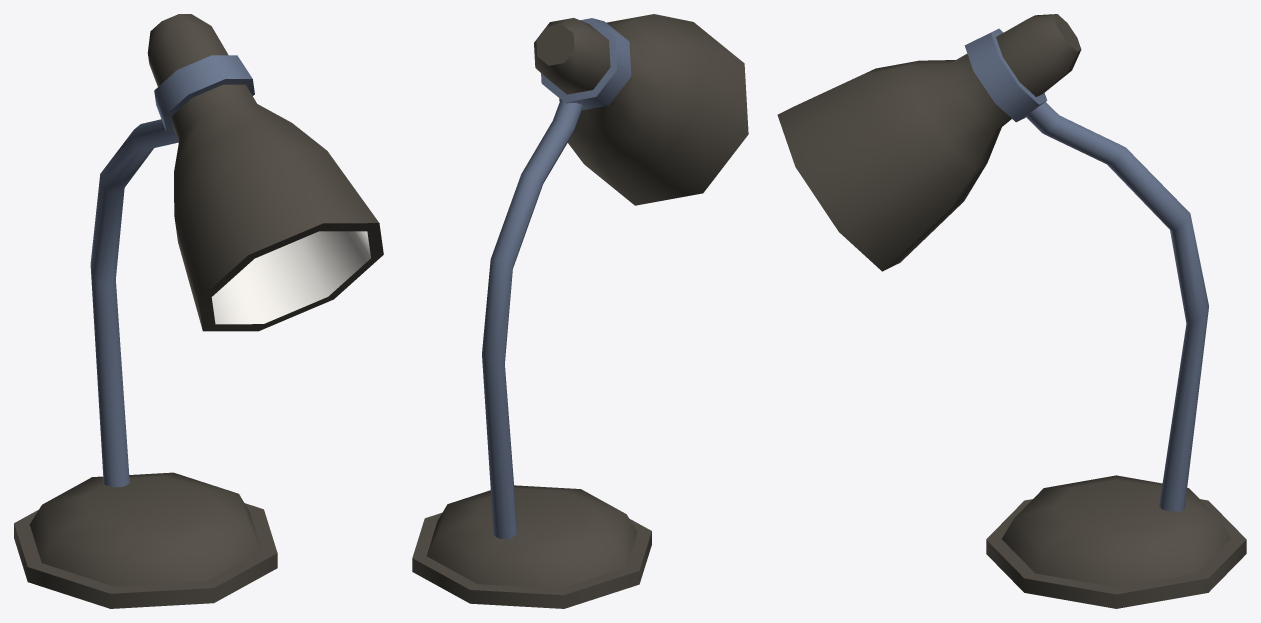
File: Light_Desk.glb
The picture shows the model from 3 angles, left to right: view 1: azimuth 30°, elevation 25°; view 2: azimuth 150°, elevation 25°; view 3: azimuth 270°, elevation 25°; orthographic projection. The views are drawn at different scales.
Parts seen in each view (by area): view 1: Light_Desk; view 2: Light_Desk; view 3: Light_Desk.
Boxes of the visible parts, x1,y1,x2,y2 form: Light_Desk: [14, 14, 383, 608]; Light_Desk: [412, 14, 748, 608]; Light_Desk: [777, 14, 1246, 608].
Size of the model in its own units: 0.2515 by 0.5732 by 0.4532.
